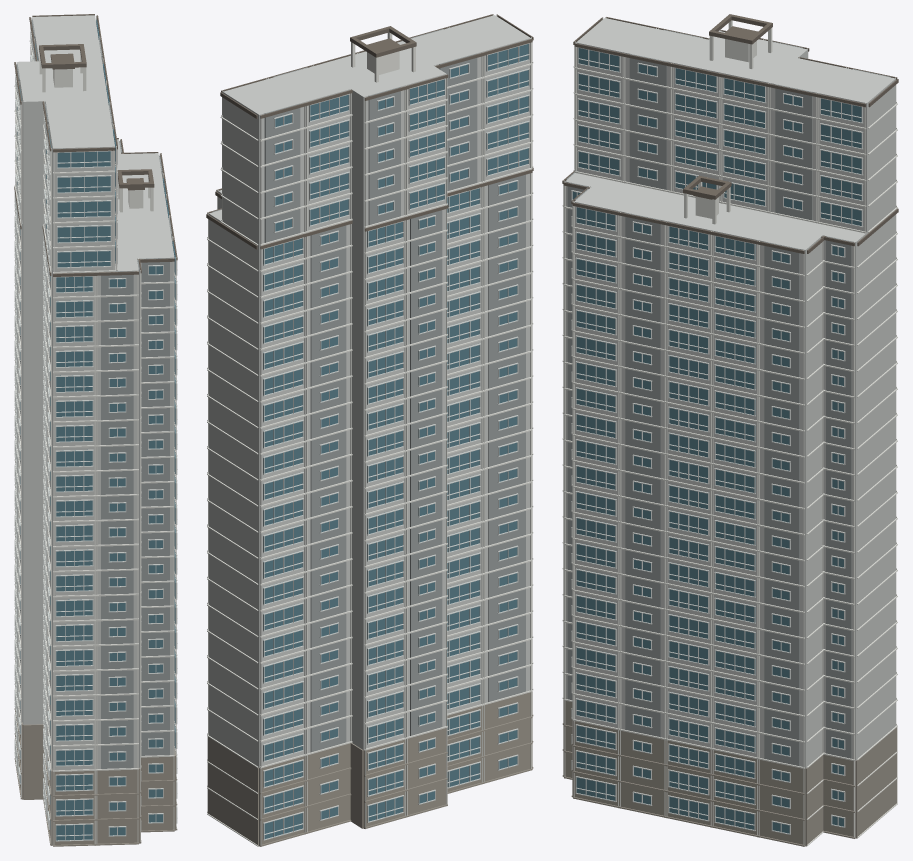
The model's file is bespoke-banpo-xi-137.glb.
The picture shows the model from 3 angles, left to right: view 1: azimuth 30°, elevation 25°; view 2: azimuth 150°, elevation 25°; view 3: azimuth 270°, elevation 25°; orthographic projection. The views are drawn at different scales.
Parts seen in each view (by area): view 1: editable_BX137_pale_silver_limestone, editable_BX137_grey_service_core, editable_BX137_blue_grey_broad_glazing, editable_BX137_ivory_course_bands, editable_BX137_white_window_frames, editable_BX137_warm_ground_stone, editable_BX137_dark_coping; view 2: editable_BX137_pale_silver_limestone, editable_BX137_blue_grey_broad_glazing, editable_BX137_grey_service_core, editable_BX137_white_window_frames, editable_BX137_ivory_course_bands, editable_BX137_warm_ground_stone, editable_BX137_dark_coping; view 3: editable_BX137_pale_silver_limestone, editable_BX137_blue_grey_broad_glazing, editable_BX137_grey_service_core, editable_BX137_ivory_course_bands, editable_BX137_white_window_frames, editable_BX137_warm_ground_stone, editable_BX137_dark_coping.
Boxes of the visible parts, box(x1,y1,x2,y2) form: editable_BX137_pale_silver_limestone: box(17, 15, 174, 844); editable_BX137_grey_service_core: box(16, 19, 172, 768); editable_BX137_blue_grey_broad_glazing: box(17, 19, 175, 840); editable_BX137_ivory_course_bands: box(14, 15, 177, 845); editable_BX137_white_window_frames: box(14, 22, 177, 841); editable_BX137_warm_ground_stone: box(14, 708, 177, 846); editable_BX137_dark_coping: box(14, 14, 177, 276); editable_BX137_pale_silver_limestone: box(209, 15, 530, 845); editable_BX137_blue_grey_broad_glazing: box(263, 44, 528, 838); editable_BX137_grey_service_core: box(212, 29, 525, 752); editable_BX137_white_window_frames: box(263, 43, 529, 840); editable_BX137_ivory_course_bands: box(207, 15, 533, 846); editable_BX137_warm_ground_stone: box(207, 692, 533, 846); editable_BX137_dark_coping: box(206, 14, 533, 249); editable_BX137_pale_silver_limestone: box(565, 18, 895, 845); editable_BX137_blue_grey_broad_glazing: box(572, 48, 861, 833); editable_BX137_grey_service_core: box(566, 29, 890, 766); editable_BX137_ivory_course_bands: box(562, 17, 897, 846); editable_BX137_white_window_frames: box(571, 47, 863, 834); editable_BX137_warm_ground_stone: box(562, 700, 897, 846); editable_BX137_dark_coping: box(562, 14, 898, 253).
Bounding box in the file's own units: 23.41 × 78.5 × 31.7.
